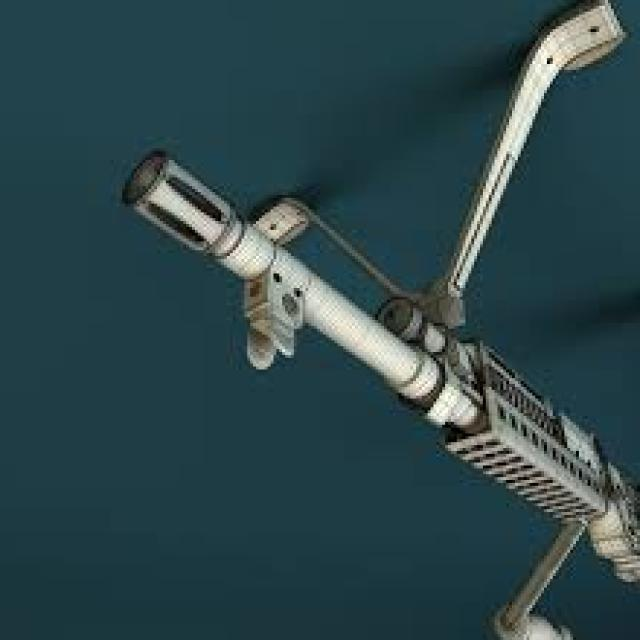Gun: (70, 0, 640, 640)
